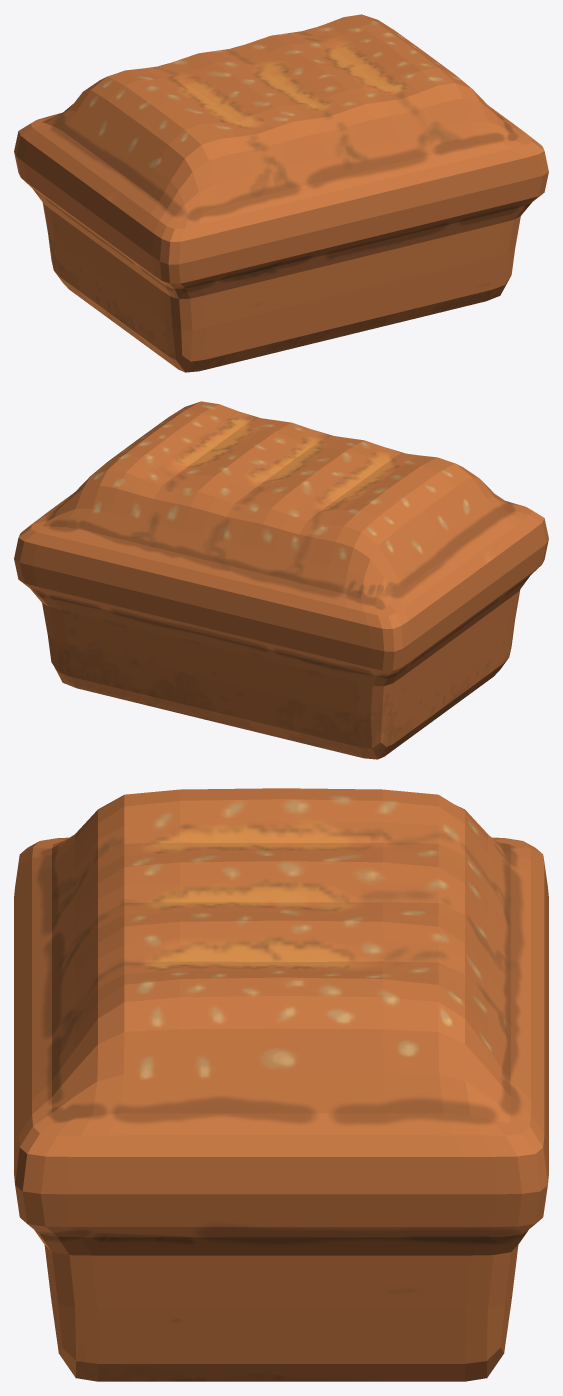
The model's file is bread_boxy.glb.
3 renders of one model, top to bottom at view 1: azimuth 30°, elevation 25°; view 2: azimuth 150°, elevation 25°; view 3: azimuth 270°, elevation 25°, orthographic. The views are drawn at different scales.
Visible parts, largest first — view 1: bread_box; view 2: bread_box; view 3: bread_box.
Part boxes in pixels (x1=…): bread_box: x1=14, y1=14, x2=548, y2=372; bread_box: x1=14, y1=401, x2=548, y2=759; bread_box: x1=14, y1=788, x2=548, y2=1381.
Size of the model in its own units: 4.41 by 2.39 by 3.15.
Materials: 1 (1 with a texture image).
